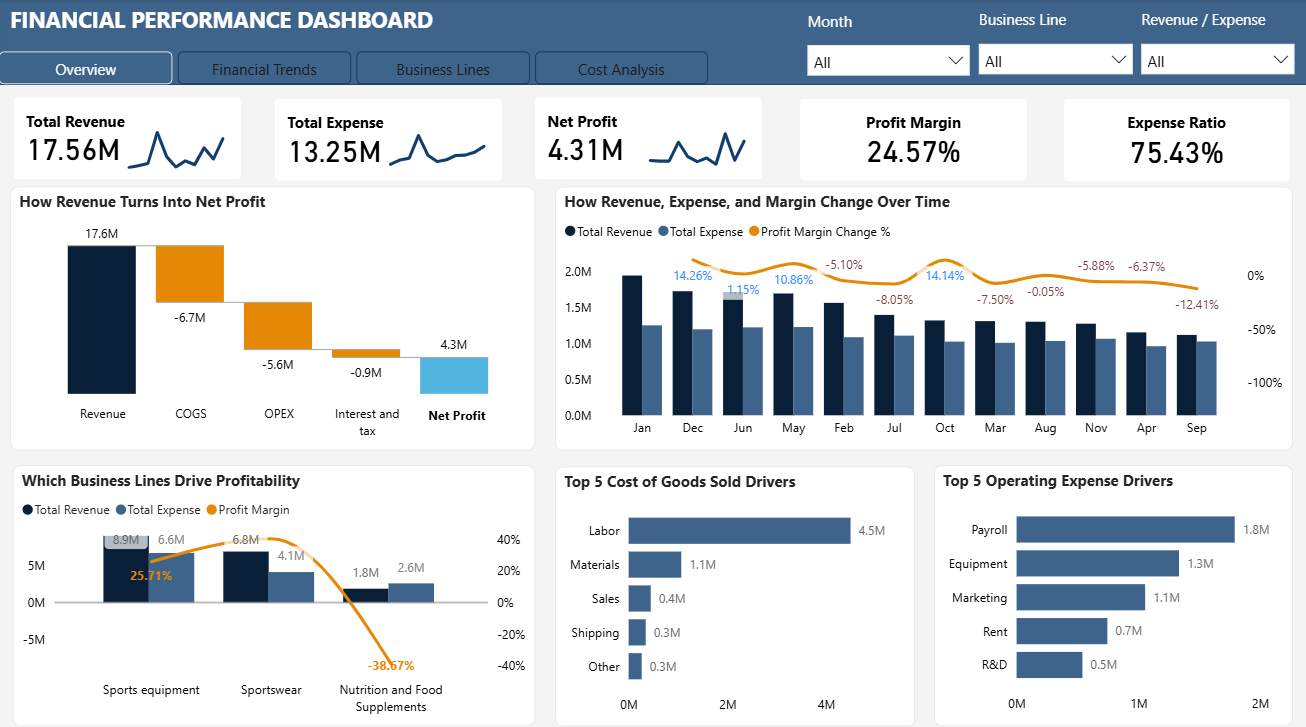

This screenshot's page, from the dashboard's own definition file:
{"tool":"powerbi","page":{"name":" Overview","canvas":[1280,720],"ordinal":0},"visuals":[{"type":"shape","box":[0,0,1280.3,84.2],"z":0},{"type":"cardVisual","fields":{"Data":["Measure.Expense Ratio"]},"box":[1034.1,83.2,246.2,104.9],"z":0,"group":"g8"},{"type":"textbox","box":[0,0,491.6,51.4],"z":1000},{"type":"group","id":"g1","title":"Group 3","box":[0,83.2,259.7,104.9],"z":1000,"group":"g8"},{"type":"waterfallChart","title":"How Revenue Turns Into Net Profit","fields":{"Category":["Waterfall Steps Simple.Step"],"Y":["Waterfall Steps Simple.Waterfall Step Value Simple"]},"box":[11,183.4,513.6,258],"z":1000,"group":"g9"},{"type":"group","id":"g2","title":"Group 3","box":[262,83.2,260.1,105.2],"z":2000,"group":"g8"},{"type":"lineClusteredColumnComboChart","title":"How Revenue, Expense, and Margin Change Over Time","fields":{"Y":["Measure.Total Revenue","Measure.Total Expense"],"Y2":["Measure.Profit Margin Change %"],"Category":["Dim_Date.Year Hierarchy.Year","Dim_Date.Year Hierarchy.Quarter","Dim_Date.Year Hierarchy.Month Short"]},"box":[544.2,183.4,721.5,258],"z":2000},{"type":"slicer","fields":{"Values":["Dim_BusinessLine.Business Line"]},"box":[953.8,39.3,160,42.8],"z":3000,"group":"g6"},{"type":"slicer","fields":{"Values":["Dim_AccountType.Revenue / Expense Group"]},"box":[1113.2,39.9,159.4,42.5],"z":3000,"group":"g7"},{"type":"slicer","fields":{"Values":["Dim_Date.Month"]},"box":[786.8,40.6,167.8,42.8],"z":3000,"group":"g5"},{"type":"group","id":"g3","title":"Group 3","box":[524.3,83.2,259.3,104.9],"z":3000,"group":"g8"},{"type":"textbox","box":[401.1,392.5,90.5,30.6],"z":3000,"group":"g9"},{"type":"lineClusteredColumnComboChart","title":"Which Business Lines Drive Profitability","fields":{"Category":["Dim_BusinessLine.Business Line"],"Y":["Measure.Total Revenue","Measure.Total Expense"],"Y2":["Measure.Profit Margin"]},"box":[13.5,456.1,511.1,255.6],"z":3000},{"type":"textbox","box":[953.8,5.1,153.6,35.5],"z":4000,"group":"g6"},{"type":"textbox","box":[1113.6,5.1,153.4,35.7],"z":4000,"group":"g7"},{"type":"textbox","box":[786.8,6.4,161.1,35.5],"z":4000,"group":"g5"},{"type":"group","id":"g4","title":"Group 3","box":[785.9,83.2,246.2,104.9],"z":4000,"group":"g8"},{"type":"clusteredBarChart","title":"Top 5 Cost of Goods Sold Drivers","fields":{"Category":["Dim_AccountType.AccountType"],"Y":["Measure.Total Expense"]},"box":[544.2,457.3,352.2,255.6],"z":4000},{"type":"cardVisual","fields":{"Data":["Measure.Total Revenue"]},"box":[0,83.2,246.6,104.9],"z":5000,"group":"g1"},{"type":"cardVisual","fields":{"Data":["Measure.Total Expense"]},"box":[262,83.2,246.6,104.9],"z":5000,"group":"g2"},{"type":"cardVisual","fields":{"Data":["Measure.Net Profit"]},"box":[524.3,83.2,246.6,104.9],"z":5000,"group":"g3"},{"type":"cardVisual","fields":{"Data":["Measure.Profit Margin"]},"box":[785.9,83.2,246.2,104.9],"z":5000,"group":"g4"},{"type":"clusteredBarChart","title":"Top 5 Operating Expense Drivers","fields":{"Category":["Dim_AccountType.AccountType"],"Y":["Measure.Total Expense"]},"box":[914.7,456.1,351,255.6],"z":5000},{"type":"actionButton","title":"Overview","box":[0,35.5,170,47.7],"z":6000},{"type":"group","id":"g5","title":"Group 2","box":[786.8,6.4,167,76.5],"z":10000},{"type":"group","id":"g6","title":"Group 2","box":[953.8,5.1,159.4,76.5],"z":11000},{"type":"group","id":"g7","title":"Group 2","box":[1113.2,5.1,159.4,77.8],"z":12000},{"type":"group","id":"g8","title":"Group 1","box":[0,83.2,1280.3,105.2],"z":13000},{"type":"group","id":"g9","title":"Group 4","box":[11,183.4,513.6,258],"z":14000},{"type":"actionButton","box":[339.9,35.5,170,47.7],"z":14001},{"type":"actionButton","box":[509.9,33.7,168.8,47.7],"z":14002},{"type":"actionButton","box":[170,35.5,170,47.7],"z":14003},{"type":"lineChart","fields":{"Y":["Measure.Monthly Revenue Growth %"],"Category":["Dim_Date.Month"]},"box":[92.3,109.5,167.4,61.3],"z":16000,"group":"g1"},{"type":"lineChart","fields":{"Category":["Dim_Date.Month"],"Y":["Measure.Monthly Expense Growth %"]},"box":[354.3,109.5,167.4,61.3],"z":16000,"group":"g2"},{"type":"lineChart","fields":{"Category":["Dim_Date.Month"],"Y":["Measure.Monthly Net Profit Growth %"]},"box":[616.6,109.5,167.4,61.3],"z":16000,"group":"g3"}]}

Visuals, with their boxes in screenshot pixels (x1, y1, x2, y2), scaled from the page's 1280x720 canvas onto the 1306x727 screenshot:
shape: 0:0:1305:85
cardVisual - Measure.Expense Ratio: 1055:84:1305:190
textbox: 0:0:502:52
"Group 3" group: 0:84:265:190
"How Revenue Turns Into Net Profit" waterfallChart: 11:185:535:446
"Group 3" group: 267:84:533:190
"How Revenue, Expense, and Margin Change Over Time" lineClusteredColumnComboChart: 555:185:1291:446
slicer - Dim_BusinessLine.Business Line: 973:40:1136:83
slicer - Dim_AccountType.Revenue / Expense Group: 1136:40:1298:83
slicer - Dim_Date.Month: 803:41:974:84
"Group 3" group: 535:84:800:190
textbox: 409:396:502:427
"Which Business Lines Drive Profitability" lineClusteredColumnComboChart: 14:461:535:719
textbox: 973:5:1130:41
textbox: 1136:5:1293:41
textbox: 803:6:967:42
"Group 3" group: 802:84:1053:190
"Top 5 Cost of Goods Sold Drivers" clusteredBarChart: 555:462:915:720
cardVisual - Measure.Total Revenue: 0:84:252:190
cardVisual - Measure.Total Expense: 267:84:519:190
cardVisual - Measure.Net Profit: 535:84:787:190
cardVisual - Measure.Profit Margin: 802:84:1053:190
"Top 5 Operating Expense Drivers" clusteredBarChart: 933:461:1291:719
"Overview" actionButton: 0:36:173:84
"Group 2" group: 803:6:973:84
"Group 2" group: 973:5:1136:82
"Group 2" group: 1136:5:1298:84
"Group 1" group: 0:84:1305:190
"Group 4" group: 11:185:535:446
actionButton: 347:36:520:84
actionButton: 520:34:692:82
actionButton: 173:36:347:84
lineChart - Measure.Monthly Revenue Growth % x Dim_Date.Month: 94:111:265:172
lineChart - Dim_Date.Month x Measure.Monthly Expense Growth %: 361:111:532:172
lineChart - Dim_Date.Month x Measure.Monthly Net Profit Growth %: 629:111:800:172
